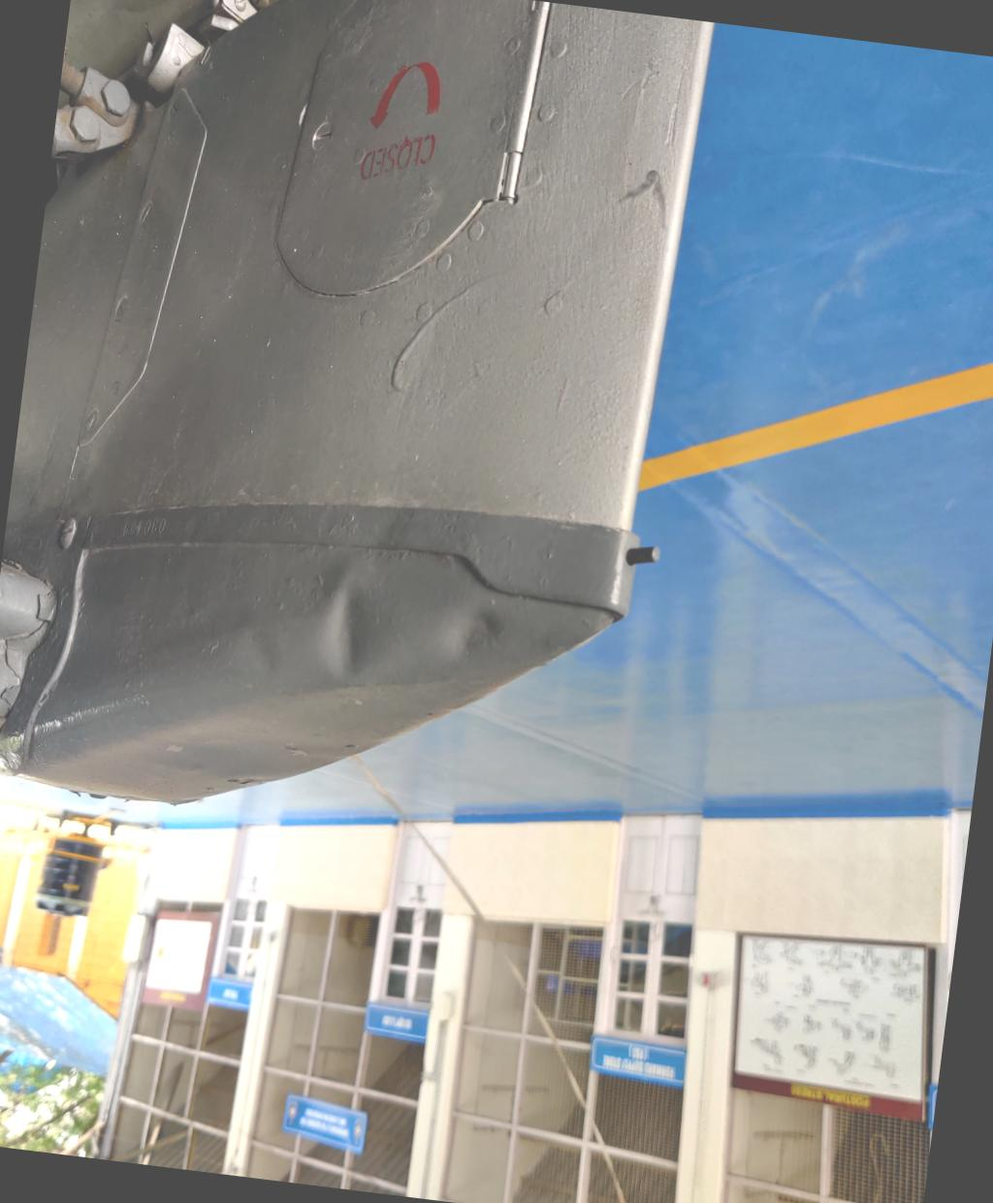dent: (291, 553, 397, 705), (420, 573, 522, 691)
